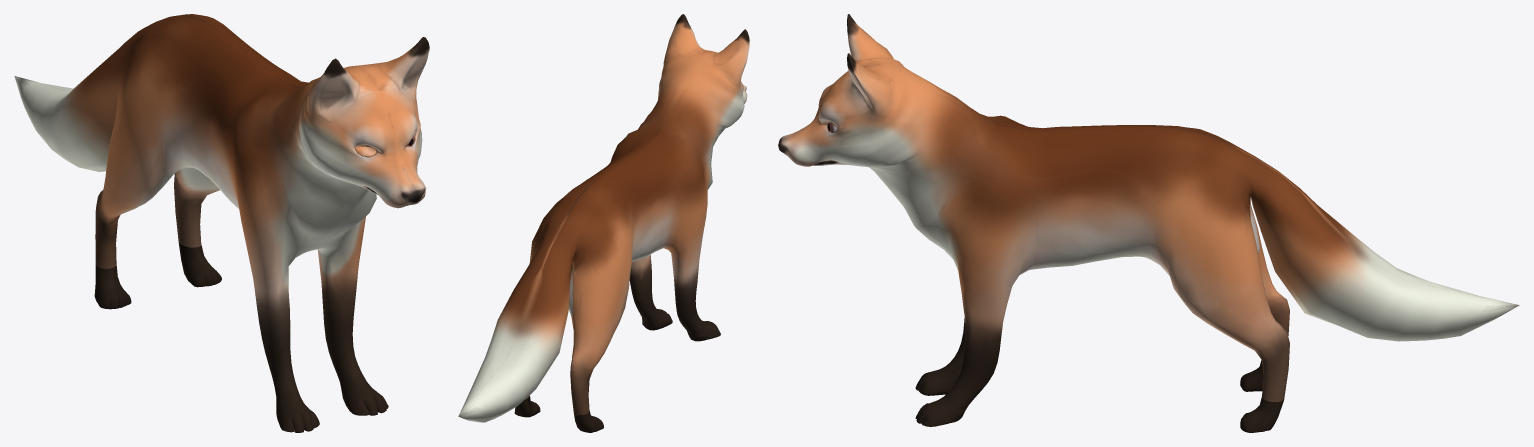
Rendered from Fuchs.gltf.
3 views of the same model, side by side, from view 1: azimuth 30°, elevation 25°; view 2: azimuth 150°, elevation 25°; view 3: azimuth 270°, elevation 25° (orthographic). The views are drawn at different scales.
Visible parts, largest first — view 1: Fox; view 2: Fox; view 3: Fox.
Part boxes in pixels (x1=…): Fox: x1=14, y1=14, x2=429, y2=432; Fox: x1=458, y1=14, x2=749, y2=432; Fox: x1=778, y1=14, x2=1519, y2=432.
Size of the model in its own units: 1.95 by 6.15 by 11.09.
2 materials, 2 textured.
